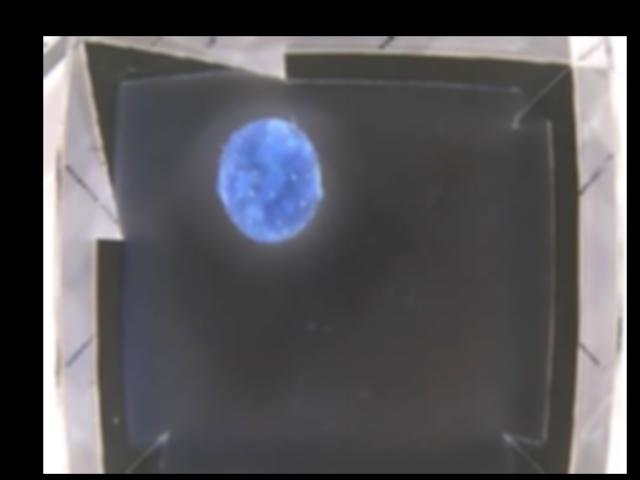Potato: (218, 119, 320, 243)
